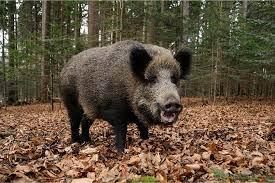wildboar: (58, 38, 194, 156)
